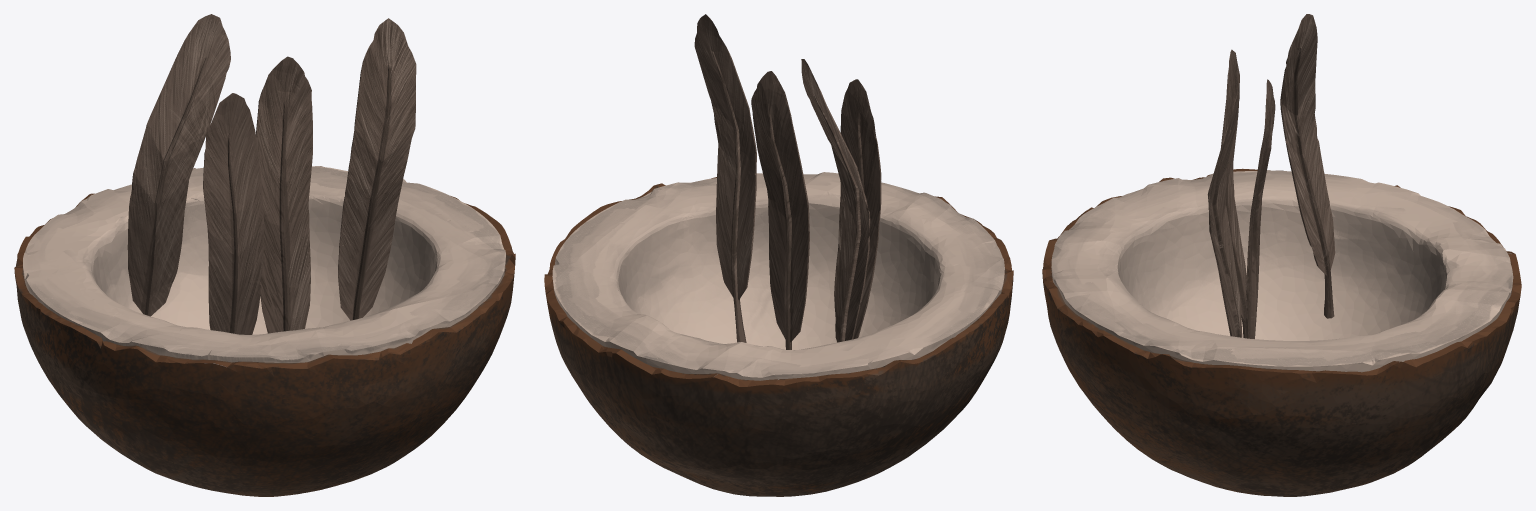
Rendered from Plumasdecoco.glb.
The picture shows the model from 3 angles, left to right: view 1: azimuth 30°, elevation 25°; view 2: azimuth 150°, elevation 25°; view 3: azimuth 270°, elevation 25°; orthographic projection. The views are drawn at different scales.
Visible parts, largest first — view 1: Plumas_lambert6SG, Cascara_Cascara, Coco_Coco; view 2: Coco_Coco, Cascara_Cascara, Plumas_lambert6SG; view 3: Coco_Coco, Cascara_Cascara, Plumas_lambert6SG.
Boxes of the visible parts, left/top/right/bottom form: Plumas_lambert6SG: left=127, top=14, right=416, bottom=334; Cascara_Cascara: left=14, top=166, right=515, bottom=496; Coco_Coco: left=23, top=166, right=505, bottom=362; Coco_Coco: left=552, top=172, right=1004, bottom=380; Cascara_Cascara: left=544, top=177, right=1013, bottom=496; Plumas_lambert6SG: left=694, top=14, right=881, bottom=349; Coco_Coco: left=1051, top=170, right=1513, bottom=372; Cascara_Cascara: left=1042, top=168, right=1521, bottom=496; Plumas_lambert6SG: left=1207, top=14, right=1335, bottom=338.
Size of the model in its own units: 1.45 by 1.47 by 1.45.
Materials: 3 (3 with a texture image).
